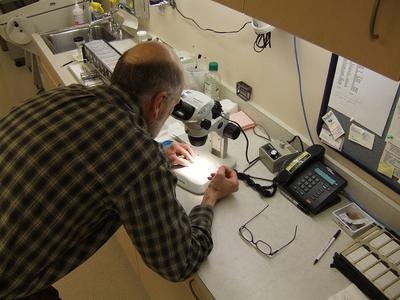person: (2, 41, 239, 300)
